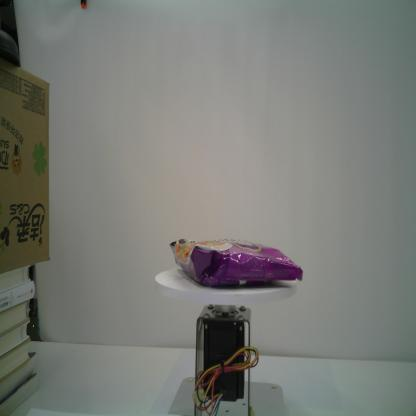Instant Noodles: (168, 237, 304, 288)
